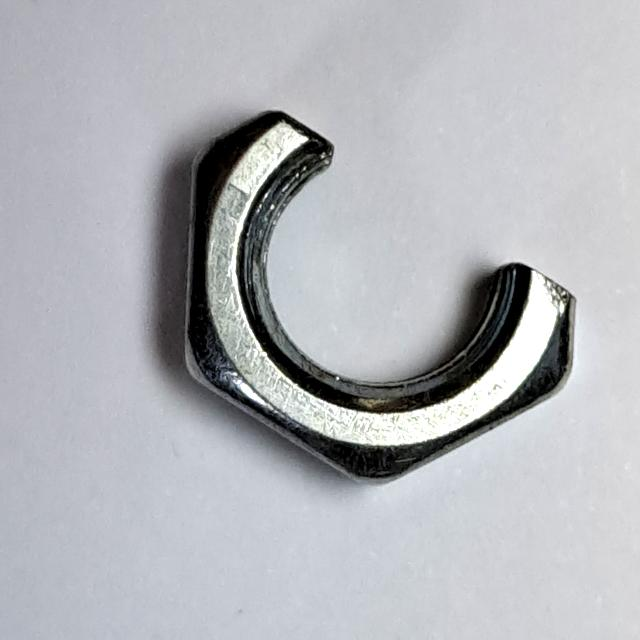Fracture: (164, 87, 597, 503)
